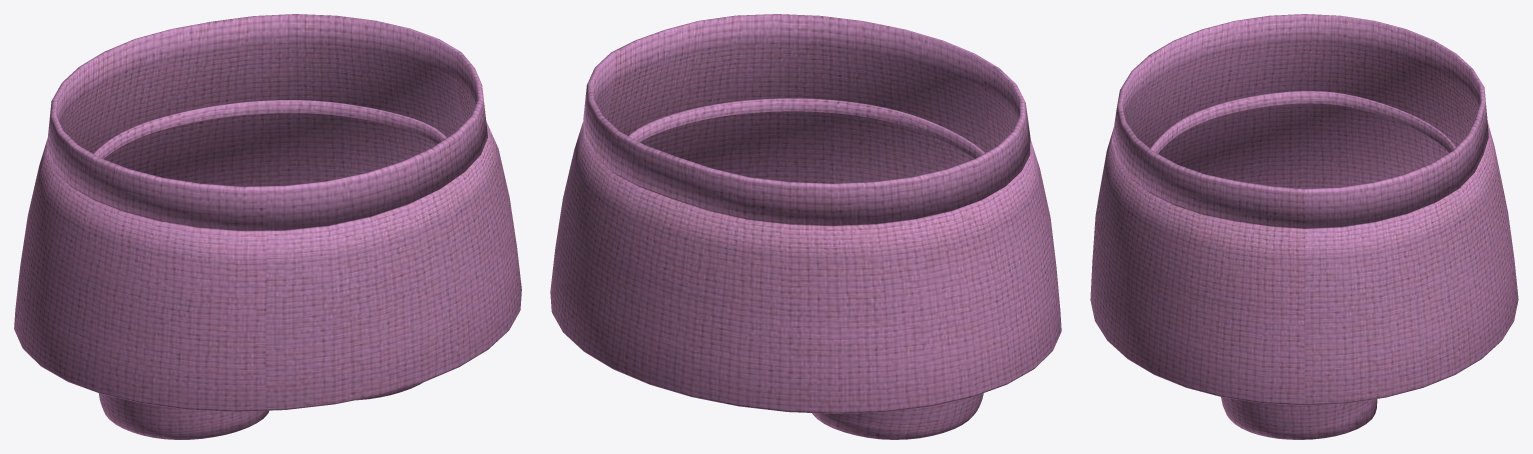
The model's file is HYERIN_HB.gltf.
3 views of the same model, side by side, from view 1: azimuth 30°, elevation 25°; view 2: azimuth 150°, elevation 25°; view 3: azimuth 270°, elevation 25° (orthographic). The views are drawn at different scales.
Parts seen in each view (by area): view 1: HYERIN_HB; view 2: HYERIN_HB; view 3: HYERIN_HB.
Boxes of the visible parts, x1,y1,x2,y2 form: HYERIN_HB: (14,14,521,439); HYERIN_HB: (550,14,1061,439); HYERIN_HB: (1090,14,1518,439).
Size of the model in its own units: 247 by 148 by 215.
1 material, 1 textured.
